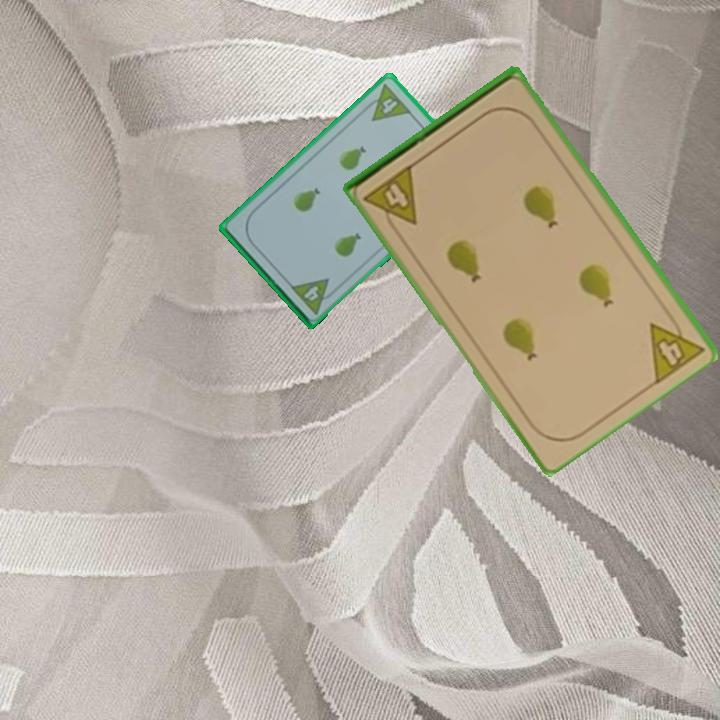4p: (646, 305, 707, 387), (360, 161, 421, 237), (359, 80, 414, 124), (287, 274, 340, 317)
